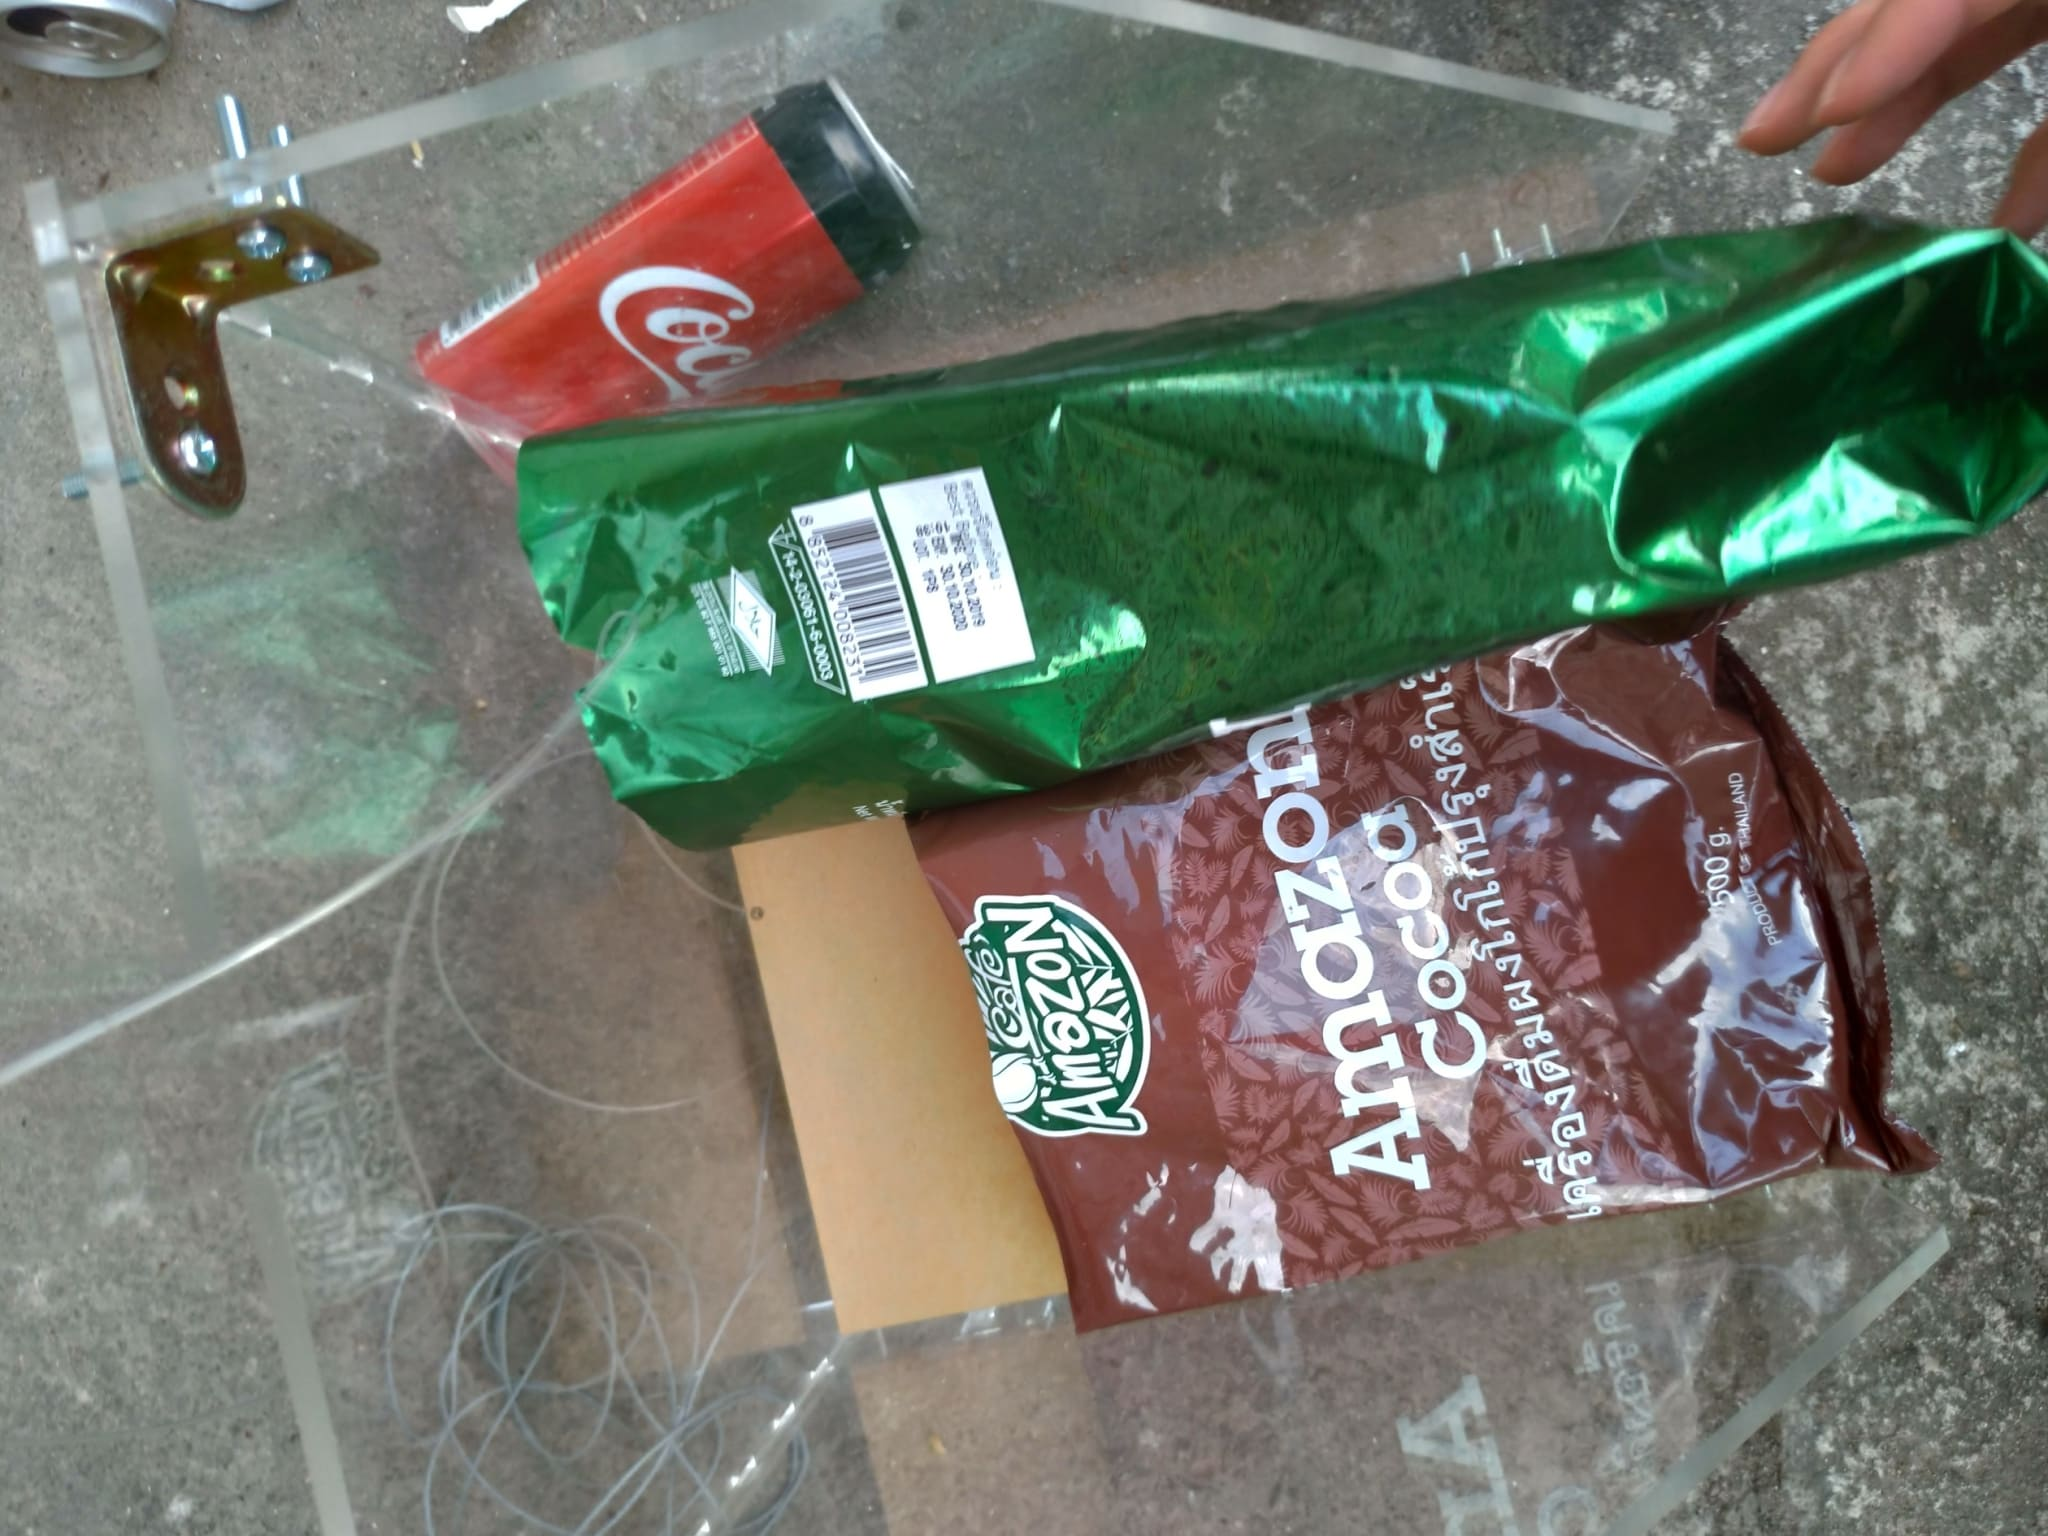AlCan: (423, 82, 930, 468)
Others: (511, 239, 2022, 834), (901, 605, 1945, 1329)
